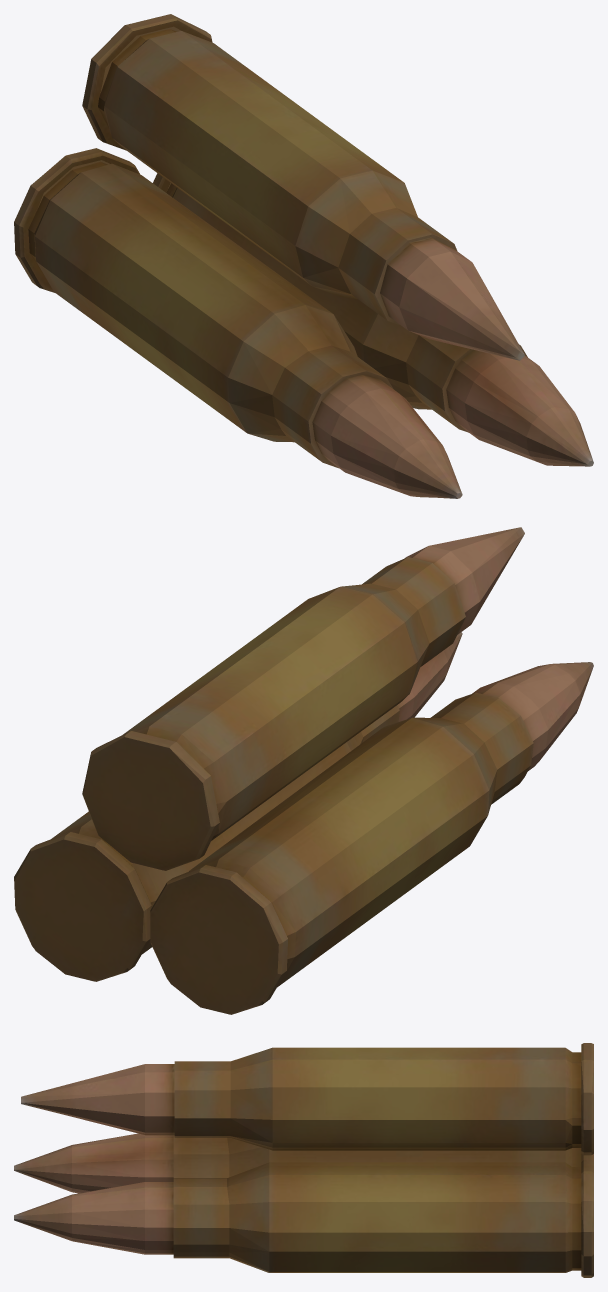
The model's file is rifle_bullet.glb.
3 views of the same model, one above another, from view 1: azimuth 30°, elevation 25°; view 2: azimuth 150°, elevation 25°; view 3: azimuth 270°, elevation 25° (orthographic). The views are drawn at different scales.
Parts seen in each view (by area): view 1: tripo_node_04183b0a-cddb-41c9-a99d-00546aca6f15; view 2: tripo_node_04183b0a-cddb-41c9-a99d-00546aca6f15; view 3: tripo_node_04183b0a-cddb-41c9-a99d-00546aca6f15.
Part boxes in pixels (bbox=[...]): tripo_node_04183b0a-cddb-41c9-a99d-00546aca6f15: bbox=[14, 14, 593, 498]; tripo_node_04183b0a-cddb-41c9-a99d-00546aca6f15: bbox=[14, 527, 593, 1014]; tripo_node_04183b0a-cddb-41c9-a99d-00546aca6f15: bbox=[14, 1043, 593, 1277].
Bounding box in the file's own units: 0.409 × 0.3699 × 0.9961.
1 material, 1 textured.
